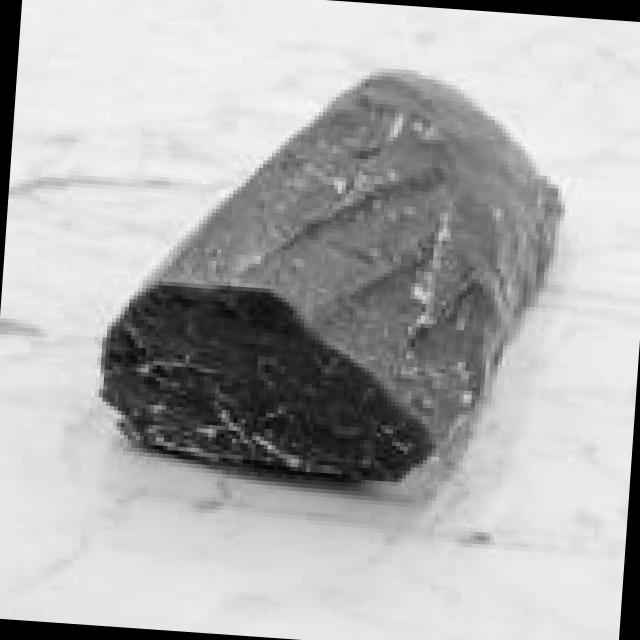thit than: (94, 81, 579, 492)
